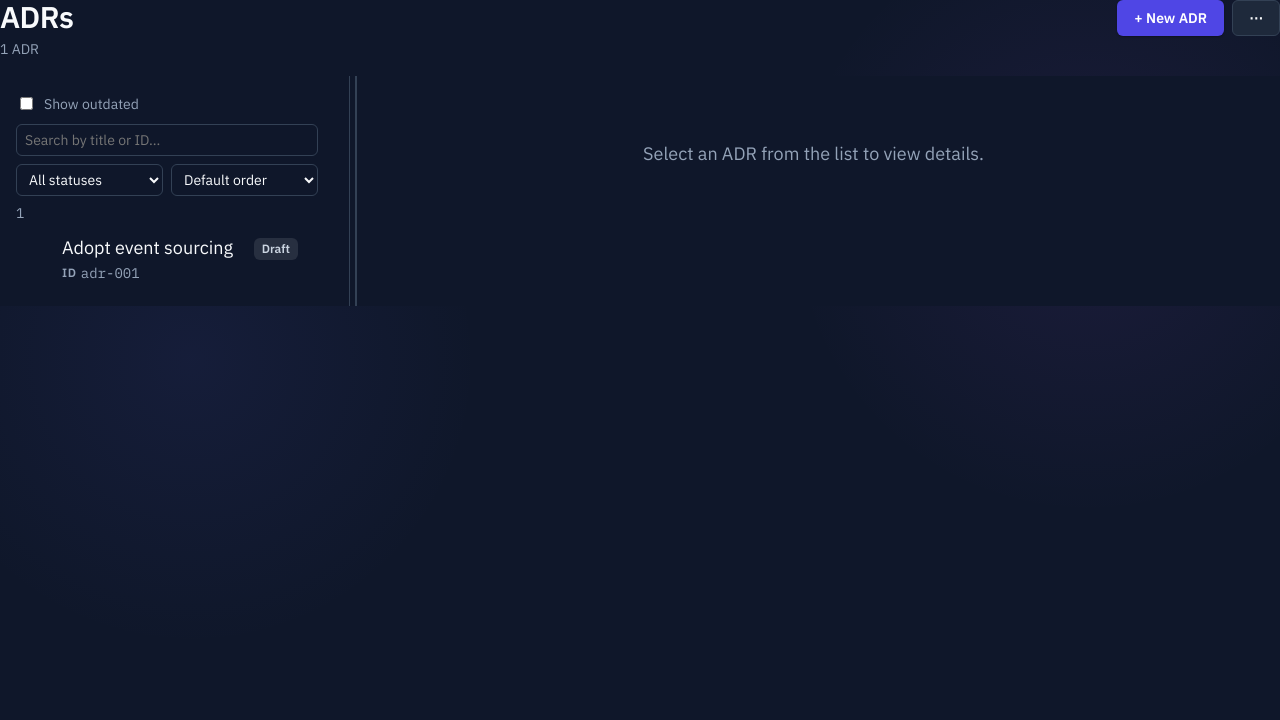
Test: AdrEditors i18n — ADR title placeholder (#658) › shows an ADR-appropriate placeholder in English
Click the button with test id "create-adr-btn" at (1171,18), box [1117,0,1224,36]
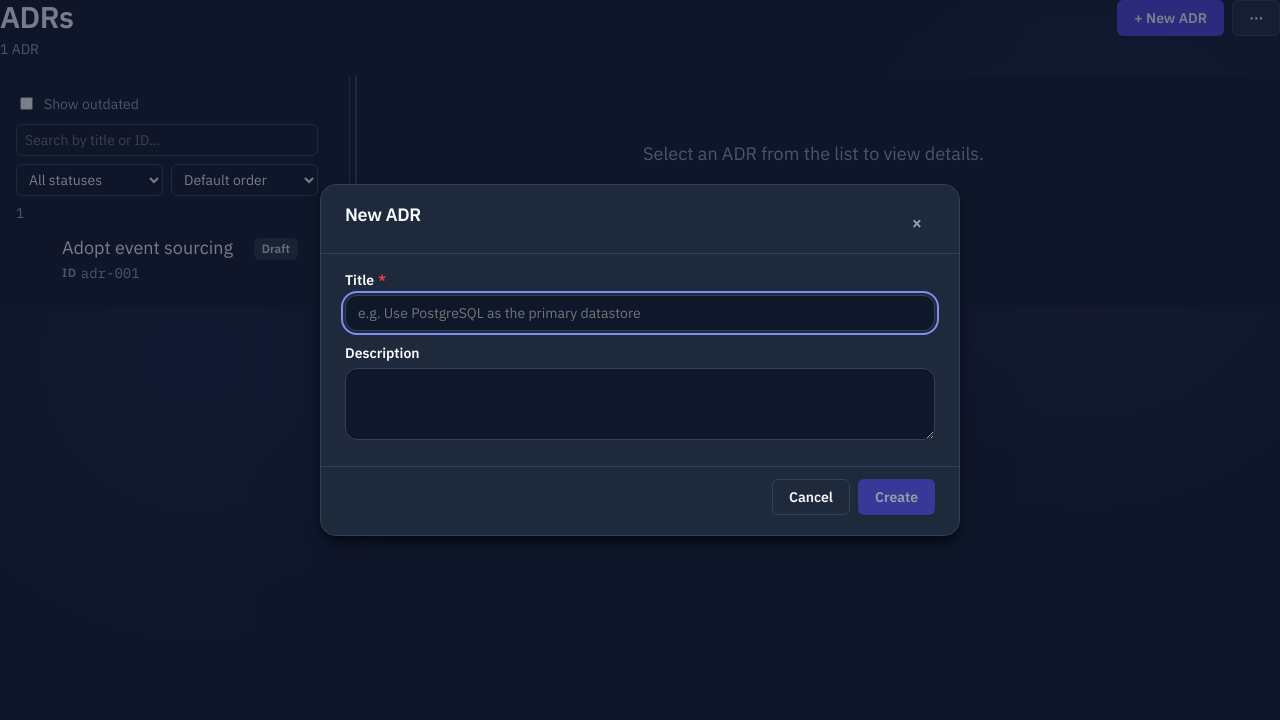
expect the field with placeholder "e.g. Use PostgreSQL as the primary datastore" is shown: met, box [345,295,935,331]
